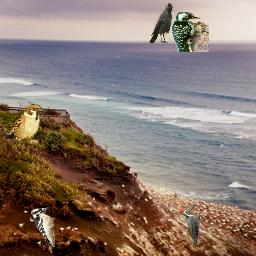Crow: (149, 3, 173, 43)
Sparrow: (5, 104, 43, 144)
Woodpecker: (172, 12, 209, 52), (31, 207, 55, 247), (179, 205, 200, 245)
